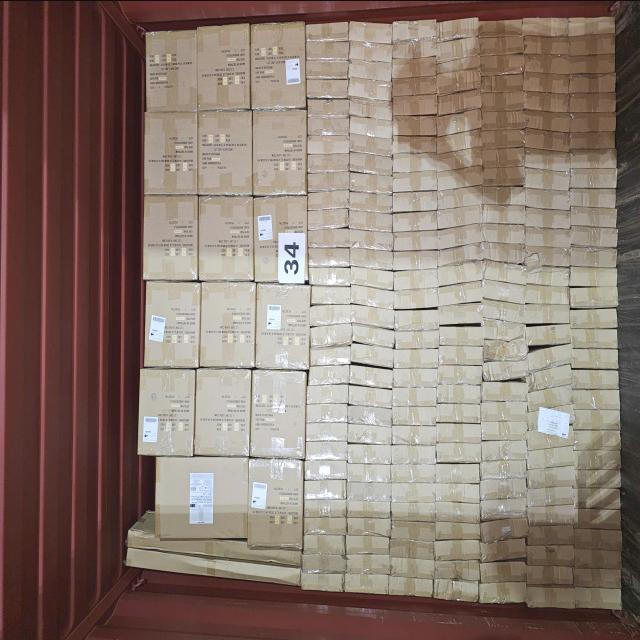Carton: (156, 455, 250, 538), (128, 548, 300, 593), (139, 366, 197, 456), (251, 368, 309, 458), (249, 456, 306, 546), (198, 281, 256, 369), (146, 280, 204, 367), (194, 364, 250, 454), (252, 17, 308, 107), (146, 195, 202, 282), (198, 192, 254, 279), (254, 191, 308, 281), (252, 104, 307, 192), (146, 108, 202, 192), (256, 280, 310, 366), (198, 106, 252, 192), (197, 21, 250, 108), (147, 27, 201, 111), (524, 54, 612, 74), (528, 584, 576, 608), (436, 67, 480, 93), (392, 14, 436, 40), (525, 146, 571, 170), (438, 261, 483, 285), (482, 516, 528, 539), (348, 21, 394, 44), (570, 306, 618, 328), (570, 226, 618, 248), (570, 284, 618, 306), (479, 580, 527, 602), (528, 525, 576, 547), (576, 526, 624, 548), (530, 344, 574, 368), (576, 586, 624, 608), (528, 501, 578, 522), (572, 346, 619, 368), (435, 498, 481, 520), (391, 56, 437, 78), (525, 168, 571, 190), (393, 268, 439, 290), (434, 536, 480, 558), (394, 286, 440, 308), (570, 244, 616, 266), (526, 108, 572, 130), (570, 146, 616, 168), (481, 558, 527, 580), (482, 536, 528, 558), (436, 146, 482, 168), (348, 76, 392, 99), (438, 109, 482, 132), (576, 447, 622, 469), (432, 576, 478, 598), (573, 387, 621, 408), (352, 362, 394, 386), (573, 366, 621, 387), (528, 464, 576, 485), (568, 33, 616, 54), (528, 544, 576, 565), (527, 446, 575, 467), (527, 484, 577, 504), (526, 186, 571, 208), (481, 436, 526, 458), (575, 408, 622, 429), (574, 427, 621, 448), (438, 36, 479, 60), (348, 404, 392, 426), (348, 384, 392, 406), (525, 128, 569, 150), (439, 302, 483, 324), (438, 280, 482, 302), (482, 126, 526, 148), (350, 114, 394, 136), (438, 184, 482, 206), (344, 570, 388, 592), (528, 324, 572, 346), (482, 298, 526, 320), (525, 244, 569, 266), (438, 205, 482, 227), (530, 364, 574, 386), (526, 227, 572, 248), (570, 206, 616, 227), (438, 90, 480, 113), (438, 167, 484, 188), (486, 261, 528, 284), (481, 478, 527, 499), (388, 574, 434, 595), (434, 558, 480, 579), (484, 339, 530, 360), (570, 266, 618, 286), (482, 380, 530, 400), (570, 186, 618, 206), (526, 564, 574, 584), (575, 566, 623, 586), (575, 548, 623, 568), (568, 71, 616, 91), (437, 242, 485, 262), (480, 399, 528, 419), (528, 426, 576, 446), (438, 16, 478, 40), (350, 245, 393, 267), (393, 422, 438, 443), (349, 98, 394, 119), (569, 92, 616, 112), (571, 110, 618, 130), (525, 207, 569, 228), (312, 322, 354, 344), (483, 182, 525, 204), (354, 322, 396, 344), (352, 343, 394, 365), (394, 150, 438, 171), (484, 280, 526, 302), (442, 223, 486, 244), (394, 94, 438, 115), (348, 443, 394, 463), (525, 92, 571, 112), (571, 328, 617, 348), (524, 71, 570, 91), (482, 108, 528, 128), (394, 305, 440, 325), (393, 346, 439, 366), (438, 324, 484, 344), (392, 170, 438, 190), (392, 248, 438, 268), (436, 421, 482, 441), (436, 482, 482, 502), (524, 303, 570, 323), (570, 167, 616, 187), (434, 461, 480, 481), (436, 130, 482, 150), (345, 480, 391, 500), (390, 537, 436, 557), (481, 497, 527, 517), (393, 230, 439, 250), (482, 418, 528, 438), (392, 384, 438, 404), (393, 364, 439, 384), (392, 37, 438, 57), (574, 468, 620, 488), (304, 569, 347, 590), (352, 284, 393, 306), (525, 283, 570, 303), (348, 422, 393, 442), (392, 404, 437, 424), (437, 442, 482, 462), (392, 498, 437, 518), (393, 210, 438, 230), (440, 344, 485, 364), (346, 532, 391, 552), (479, 52, 524, 72), (392, 481, 437, 501), (394, 189, 439, 209), (481, 88, 526, 108), (392, 444, 437, 464), (393, 74, 438, 94), (352, 267, 394, 288), (313, 304, 355, 325), (484, 221, 526, 242), (352, 302, 394, 323), (525, 34, 569, 54), (438, 362, 482, 382), (438, 382, 482, 402), (349, 60, 393, 80), (480, 145, 524, 165), (349, 40, 393, 60), (436, 403, 480, 423), (350, 209, 394, 229), (392, 520, 436, 540), (344, 552, 388, 572), (391, 556, 435, 576), (350, 230, 394, 250), (302, 552, 346, 572), (396, 326, 440, 346), (480, 70, 524, 90), (393, 461, 437, 481), (482, 458, 528, 477), (568, 16, 616, 34), (308, 114, 351, 134), (309, 362, 352, 382), (393, 114, 436, 134), (349, 191, 392, 211), (483, 165, 526, 185), (483, 322, 526, 342), (347, 516, 392, 535), (392, 134, 437, 153), (485, 203, 527, 223), (308, 76, 350, 96), (352, 171, 394, 191), (307, 383, 349, 403), (309, 228, 351, 248), (307, 207, 349, 227), (350, 151, 392, 171), (308, 403, 350, 423), (308, 38, 350, 58), (305, 440, 347, 460), (304, 478, 346, 498), (306, 458, 348, 478), (304, 532, 346, 552), (312, 344, 354, 364), (308, 170, 352, 189), (436, 520, 482, 538), (570, 131, 616, 149), (349, 134, 392, 153), (436, 54, 481, 72), (312, 266, 352, 286), (347, 462, 394, 479), (310, 190, 352, 209), (308, 152, 352, 170), (480, 34, 524, 52), (346, 498, 390, 516), (312, 284, 353, 303), (308, 134, 351, 152), (479, 19, 524, 36), (488, 242, 526, 262), (532, 266, 570, 286), (310, 94, 352, 112), (304, 497, 346, 515), (308, 59, 350, 77), (307, 513, 349, 531), (311, 246, 352, 264), (523, 17, 569, 33), (306, 422, 348, 439)
